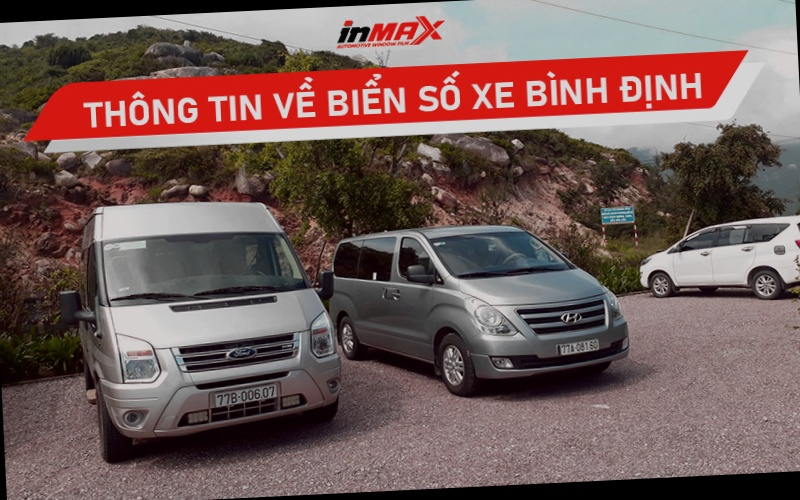Bien-so: (230, 360, 295, 388), (561, 340, 602, 360)
